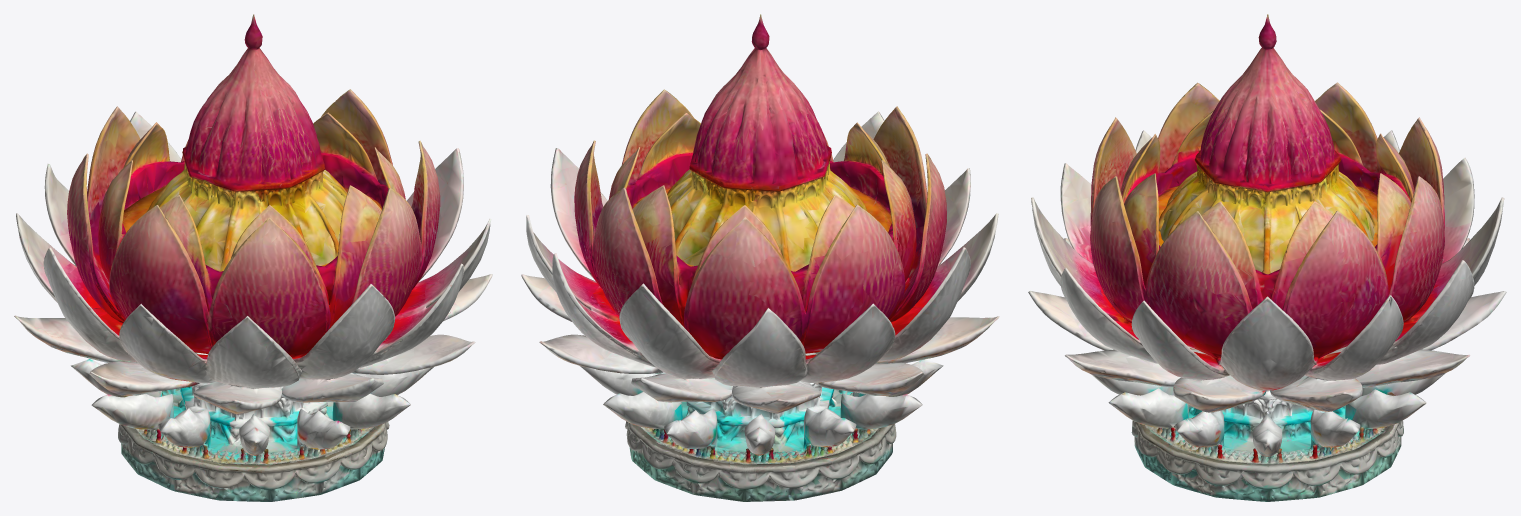
File: A_colossal_floating_c.glb
3 renders of one model, left to right at view 1: azimuth 30°, elevation 25°; view 2: azimuth 150°, elevation 25°; view 3: azimuth 270°, elevation 25°, orthographic.
Visible parts, largest first — view 1: A_colossal_floating_c; view 2: A_colossal_floating_c; view 3: A_colossal_floating_c.
Boxes of the visible parts, bbox=[...] form: A_colossal_floating_c: bbox=[14, 14, 492, 501]; A_colossal_floating_c: bbox=[521, 14, 999, 501]; A_colossal_floating_c: bbox=[1028, 14, 1506, 501].
Size of the model in its own units: 1.88 by 1.9 by 1.91.
Materials: 1 (1 with a texture image).
